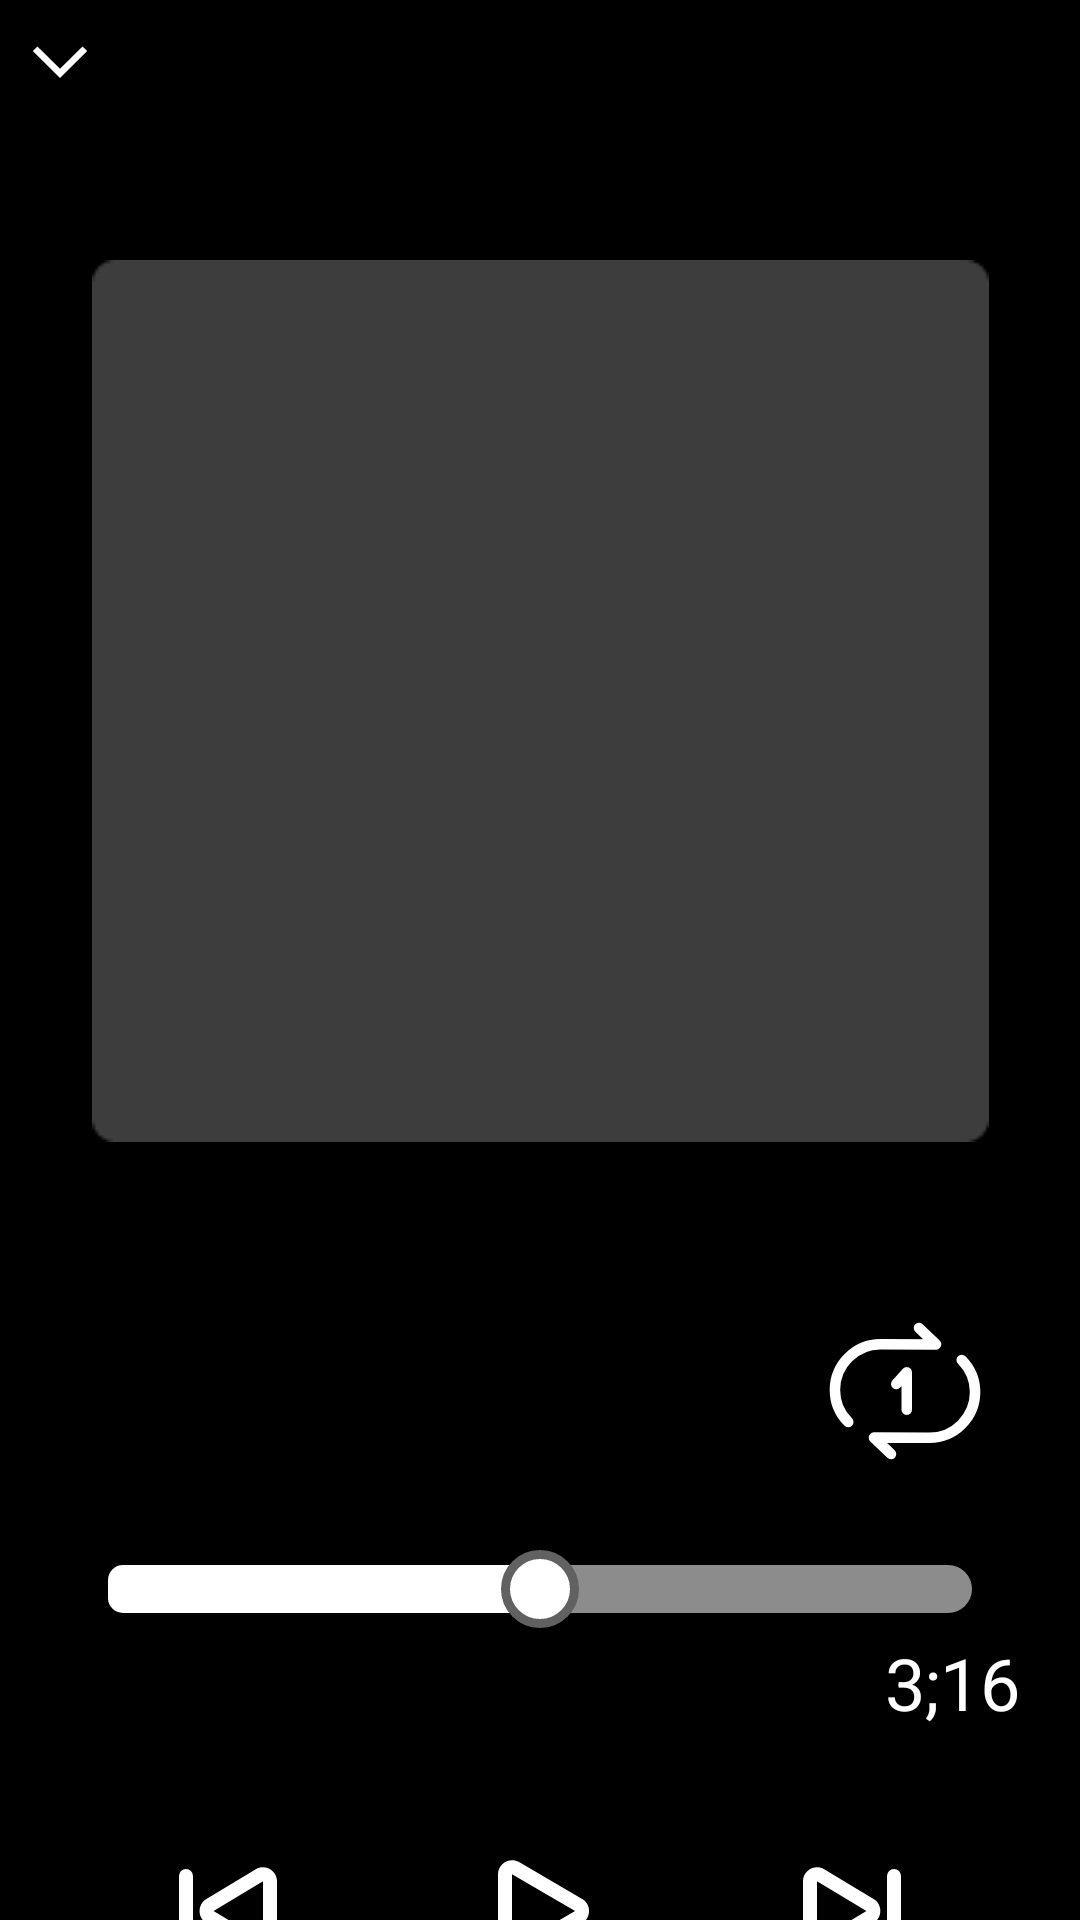

Named icons in this screenshot (1080 × 1920) and their centers, (x,y):
downarrow: (60,62)
repeatone: (905,1391)
